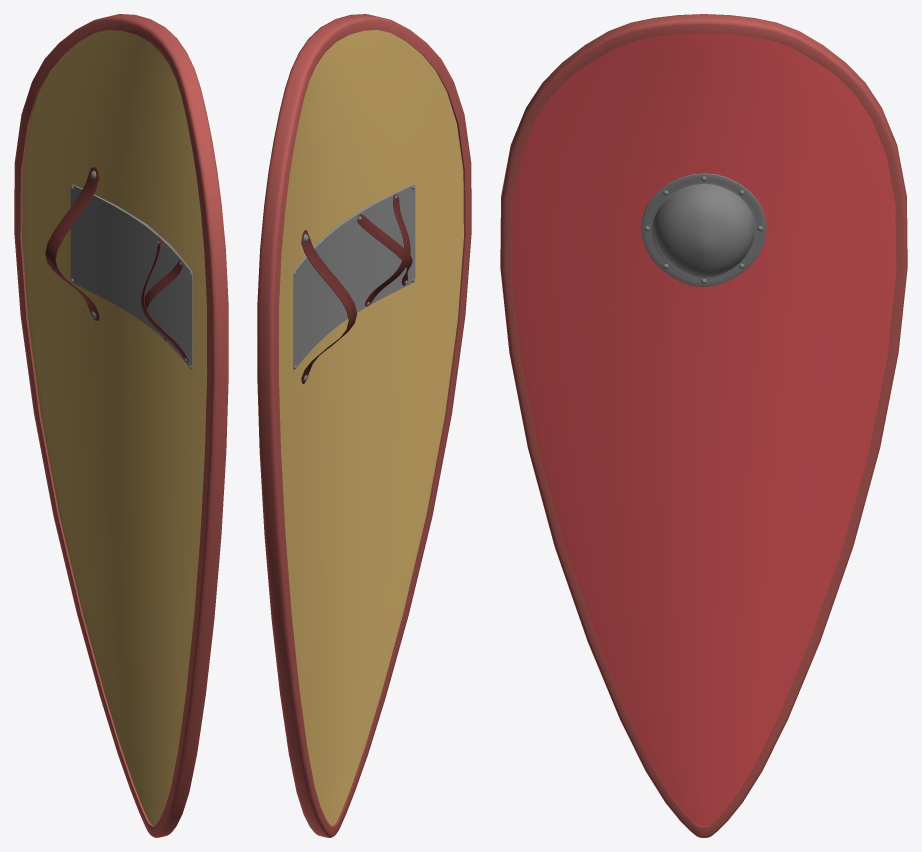
File: RedShied.fbx
3 views of the same model, side by side, from view 1: azimuth 30°, elevation 25°; view 2: azimuth 150°, elevation 25°; view 3: azimuth 270°, elevation 25° (orthographic).
Parts seen in each view (by area): view 1: Circle; view 2: Circle; view 3: Circle.
Part boxes in pixels (x1,y1,x2,y2): Circle: (14,14,228,837); Circle: (257,14,471,837); Circle: (500,14,907,837).
Size of the model in its own units: 64.9 by 482 by 218.
